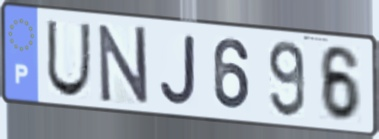6: (317, 43, 365, 126), (211, 36, 253, 114)
9: (266, 39, 307, 120)
J: (158, 31, 199, 108)
N: (96, 23, 151, 106)
U: (44, 18, 94, 100)
